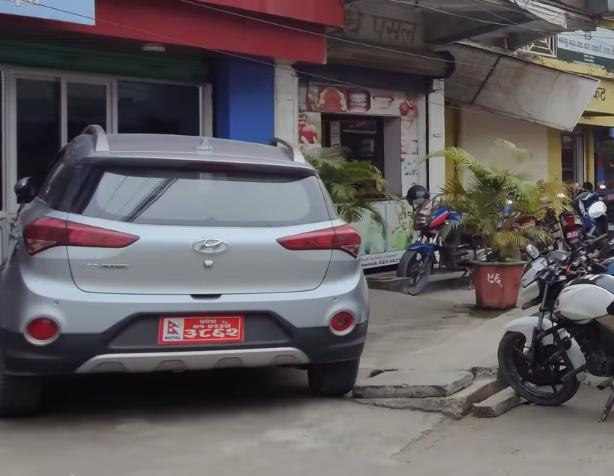bike: (494, 233, 614, 417), (403, 181, 506, 299)
car: (0, 125, 386, 424)
scooter: (554, 184, 610, 246)
